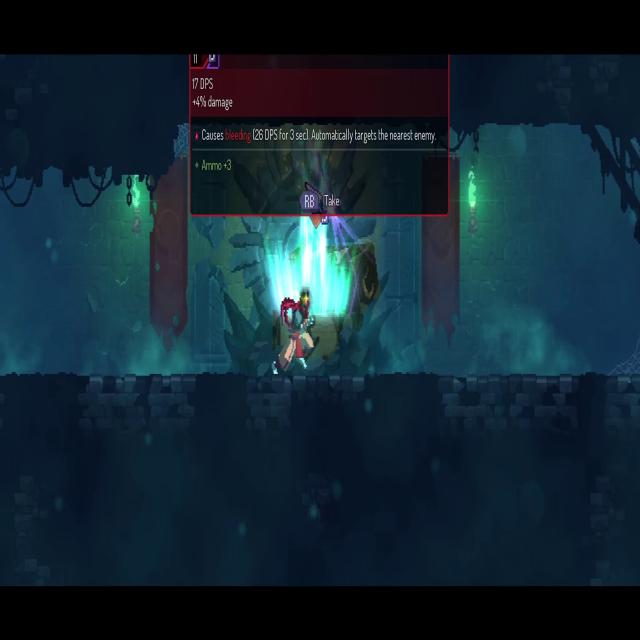agents: (276, 292, 315, 375)
